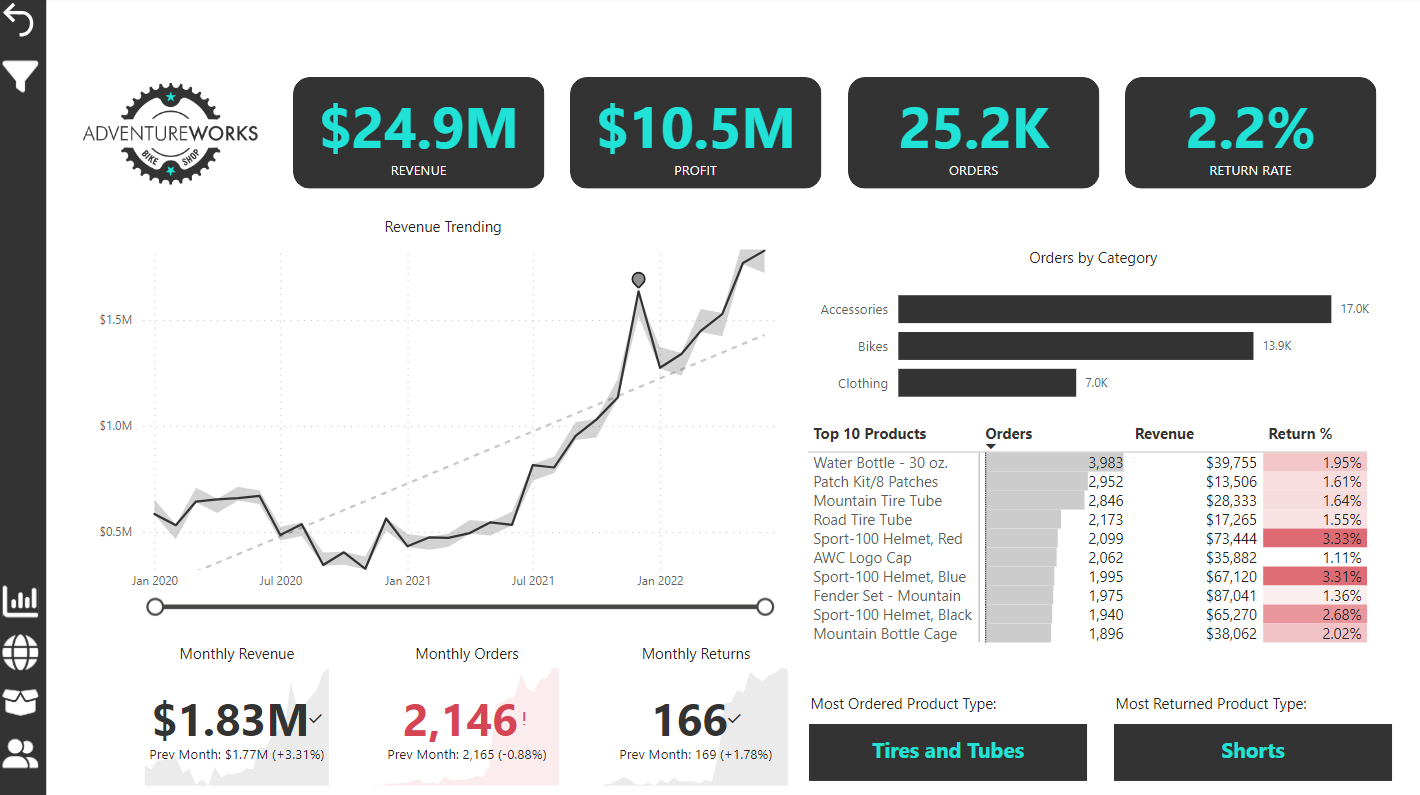

The dashboard page shown, as its layout file describes it:
{"tool":"powerbi","page":{"name":"Exec Dashboard","canvas":[1280,720],"ordinal":0},"visuals":[{"type":"image","title":"AW Logo","box":[55.5,21.8,201.8,201.8],"z":0},{"type":"group","id":"g1","title":"KPI Backgrounds","box":[266.4,71.8,970.9,100],"z":0,"group":"g3"},{"type":"shape","box":[266.4,71.8,225.5,100],"z":0,"group":"g1"},{"type":"card","fields":{"Values":["Measure Table.Total Revenue"]},"box":[278.2,71.8,201.8,100.9],"z":0,"group":"g2"},{"type":"actionButton","box":[1.8,521.2,51.9,40.3],"z":0,"group":"g4"},{"type":"shape","title":"Left Nav Background","box":[0,0,45,720],"z":1000},{"type":"group","id":"g2","title":"KPI Values","box":[278.2,71.8,947.3,100.9],"z":1000,"group":"g3"},{"type":"card","fields":{"Values":["Measure Table.Total Profit"]},"box":[526.7,71.8,201.8,100.9],"z":1000,"group":"g2"},{"type":"shape","box":[763.4,71.8,225.5,100],"z":1000,"group":"g1"},{"type":"actionButton","box":[1.8,657.3,51.9,40.3],"z":1000,"group":"g4"},{"type":"group","id":"g3","title":"KPIs","box":[266.4,71.8,970.9,100.9],"z":2000},{"type":"card","fields":{"Values":["Measure Table.Total Orders"]},"box":[775.2,71.8,201.8,100.9],"z":2000,"group":"g2"},{"type":"shape","box":[1011.9,71.8,225.5,100],"z":2000,"group":"g1"},{"type":"actionButton","box":[1.8,611.9,51.9,40.3],"z":2000,"group":"g4"},{"type":"shape","box":[514.9,71.8,225.5,100],"z":3000,"group":"g1"},{"type":"card","fields":{"Values":["Measure Table.Return Rate"]},"box":[1023.7,71.8,201.8,100.9],"z":3000,"group":"g2"},{"type":"lineChart","title":"Revenue Trending","fields":{"Y":["Measure Table.Total Revenue"],"Category":["Calendar Lookup.Start of Month"]},"box":[87.3,196.4,627.3,360.9],"z":3000},{"type":"actionButton","box":[1.8,566.6,51.9,40.3],"z":3000,"group":"g4"},{"type":"kpi","title":"Monthly Revenue","fields":{"Indicator":["Measure Table.Total Revenue"],"TrendLine":["Calendar Lookup.Start of Month"],"Goal":["Measure Table.Previous Month Revenue"]},"box":[128.2,578.2,175.5,132.7],"z":4000},{"type":"kpi","title":"Monthly Orders","fields":{"TrendLine":["Calendar Lookup.Start of Month"],"Indicator":["Measure Table.Total Orders"],"Goal":["Measure Table.Previous Month Orders"]},"box":[333.6,578.2,175.5,132.7],"z":5000},{"type":"kpi","title":"Monthly Returns","fields":{"TrendLine":["Calendar Lookup.Start of Month"],"Indicator":["Measure Table.Total Returns"],"Goal":["Measure Table.Previous Month Returns"]},"box":[539.1,578.2,175.5,132.7],"z":6000},{"type":"clusteredBarChart","title":"Orders by Category","fields":{"Category":["Product Categories Lookup.CategoryName"],"Y":["Measure Table.Total Orders"]},"box":[728.2,223.6,509.1,153.6],"z":7000},{"type":"pivotTable","fields":{"Values":["Measure Table.Total Orders","Measure Table.Total Revenue","Measure Table.Return Rate"],"Rows":["Product Lookup.ProductName"]},"box":[721.8,377.3,515.5,209.1],"z":8000},{"type":"card","fields":{"Values":["Min(Product Subcategories Lookup.SubcategoryName)"]},"box":[728.2,650.9,249.1,50.9],"z":9000},{"type":"textbox","box":[724.5,619.1,218.2,31.8],"z":10000},{"type":"card","fields":{"Values":["Min(Product Subcategories Lookup.SubcategoryName)"]},"box":[1000.9,650.9,249.1,50.9],"z":11000},{"type":"textbox","box":[997.3,619.1,218.2,31.8],"z":12000},{"type":"actionButton","box":[0,0,44.8,40.3],"z":13000},{"type":"group","id":"g4","title":"Navigation Keys","box":[1.8,521.2,51.9,176.4],"z":14000},{"type":"actionButton","box":[1.8,51,43,40.3],"z":15000}]}

Visuals, with their boxes on the page's 1280x720 design canvas (x1, y1, x2, y2). These are canvas units, not pixel positions in the 1420x795 screenshot, which may show the page scaled, cropped or inside an application window:
"AW Logo" image: 56:22:257:224
"KPI Backgrounds" group: 266:72:1237:172
shape: 266:72:492:172
card - Measure Table.Total Revenue: 278:72:480:173
actionButton: 2:521:54:562
"Left Nav Background" shape: 0:0:45:720
"KPI Values" group: 278:72:1226:173
card - Measure Table.Total Profit: 527:72:728:173
shape: 763:72:989:172
actionButton: 2:657:54:698
"KPIs" group: 266:72:1237:173
card - Measure Table.Total Orders: 775:72:977:173
shape: 1012:72:1237:172
actionButton: 2:612:54:652
shape: 515:72:740:172
card - Measure Table.Return Rate: 1024:72:1226:173
"Revenue Trending" lineChart: 87:196:715:557
actionButton: 2:567:54:607
"Monthly Revenue" kpi: 128:578:304:711
"Monthly Orders" kpi: 334:578:509:711
"Monthly Returns" kpi: 539:578:715:711
"Orders by Category" clusteredBarChart: 728:224:1237:377
pivotTable - Measure Table.Total Orders x Measure Table.Total Revenue: 722:377:1237:586
card - Min(Product Subcategories Lookup.SubcategoryName): 728:651:977:702
textbox: 724:619:943:651
card - Min(Product Subcategories Lookup.SubcategoryName): 1001:651:1250:702
textbox: 997:619:1216:651
actionButton: 0:0:45:40
"Navigation Keys" group: 2:521:54:698
actionButton: 2:51:45:91
